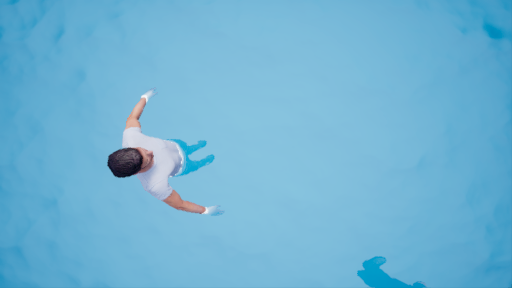person: (113, 93, 229, 220)
